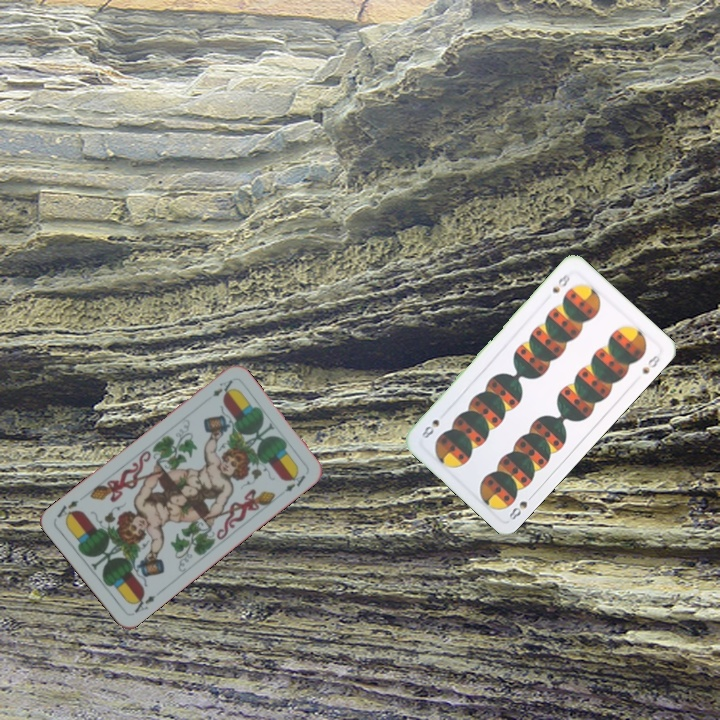EA: (128, 589, 158, 615), (208, 376, 235, 399)
S8: (505, 489, 537, 522), (548, 270, 573, 296)
